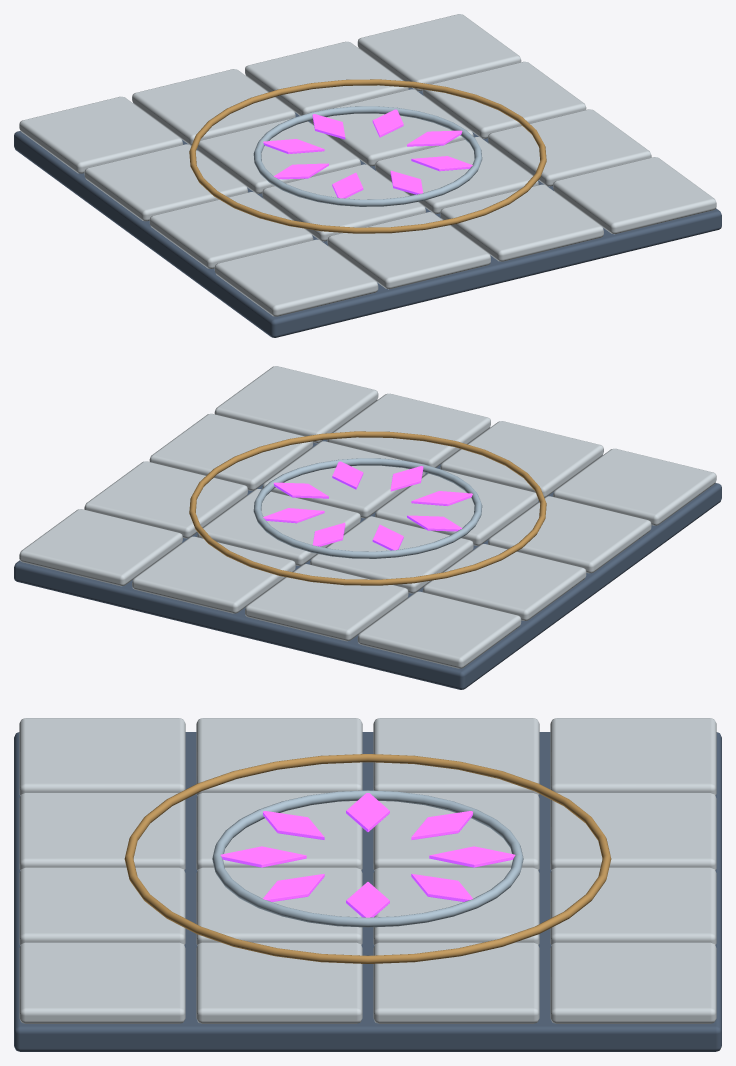
The model's file is moonsteel-convergence-convergence-plaza-390d8aef__18183.glb.
The picture shows the model from 3 angles, top to bottom: view 1: azimuth 30°, elevation 25°; view 2: azimuth 150°, elevation 25°; view 3: azimuth 270°, elevation 25°; orthographic projection. The views are drawn at different scales.
Parts seen in each view (by area): view 1: convergence-plaza; view 2: convergence-plaza; view 3: convergence-plaza.
Part boxes in pixels (x1=…): convergence-plaza: x1=14, y1=14, x2=721, y2=337; convergence-plaza: x1=14, y1=366, x2=721, y2=689; convergence-plaza: x1=14, y1=718, x2=721, y2=1051.
Bounding box in the file's own units: 4 × 0.3151 × 4.
